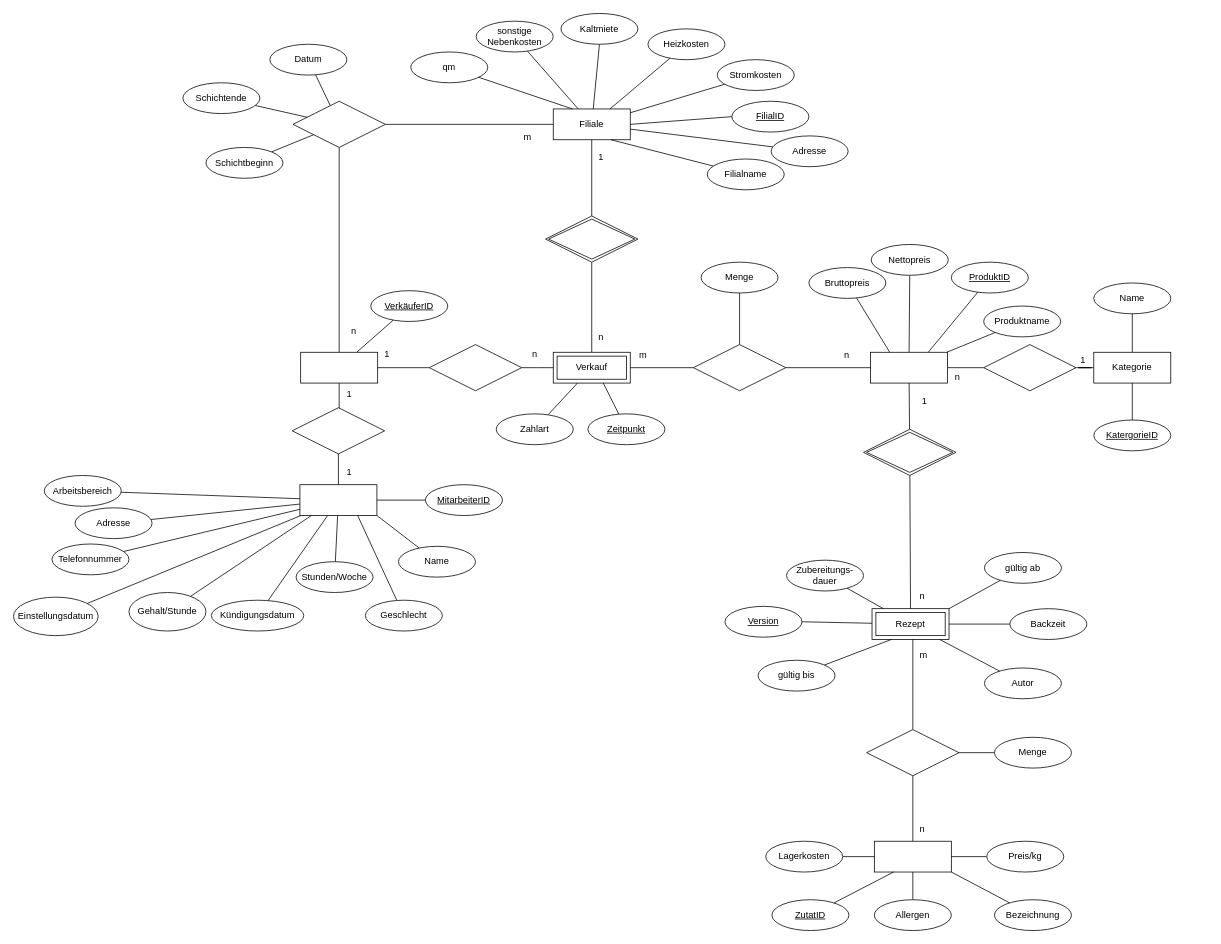
This 1221x944 diagram has some shape labels left out. The centre of each missing label's shape, as x and y in pixels:
"arbeitet in" belongs at point (338, 123).
"beinhaltet" belongs at point (912, 752).
"beschreibt" belongs at point (909, 452).
"gehört zu" belongs at point (1029, 367).
"getätigt in" belongs at point (591, 238).
"ist" belongs at point (338, 430).
"Mitarbeiter" belongs at point (338, 500).
"Produkt" belongs at point (908, 367).
"realisiert von" belongs at point (475, 367).
"Verkäufer" belongs at point (339, 367).
"wird verkauft" belongs at point (739, 367).
"Zutat" belongs at point (912, 856).
